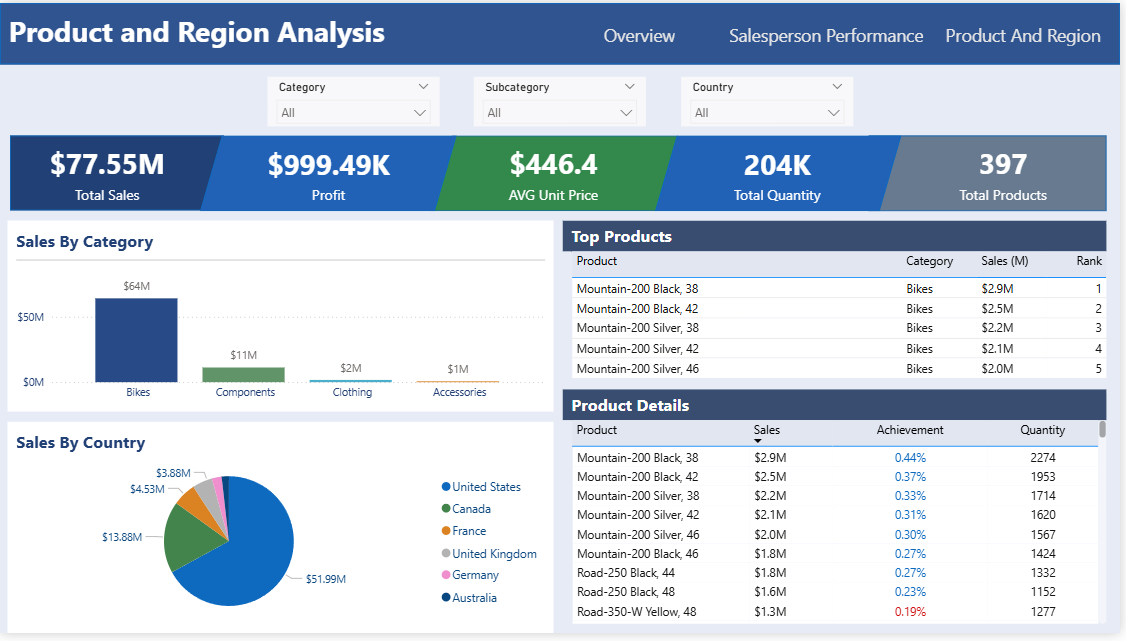

The dashboard page shown, as its layout file describes it:
{"tool":"powerbi","page":{"name":"Product And Region Analysis","canvas":[1280,720],"ordinal":2},"visuals":[{"type":"shape","box":[0,0,1280,70],"z":0},{"type":"textbox","box":[0,0,451.4,64.3],"z":1000},{"type":"actionButton","box":[647.1,5.7,167.1,60],"z":2000},{"type":"actionButton","box":[1074.3,5.7,190,60],"z":3000},{"type":"actionButton","box":[814.3,5.7,260,60],"z":4000},{"type":"shape","box":[11.4,151.4,244.3,85.7],"z":6000},{"type":"slicer","fields":{"Values":["Products.Category"]},"box":[305,85,196.7,56.7],"z":7000},{"type":"slicer","fields":{"Values":["Products.Subcategory"]},"box":[541.7,85,196.7,56.7],"z":8000},{"type":"slicer","fields":{"Values":["Regions.Country"]},"box":[778.3,85,196.7,56.7],"z":9000},{"type":"shape","box":[491.7,151.7,283.3,86.7],"z":10000},{"type":"shape","box":[993.3,151.7,271.7,86.7],"z":11000},{"type":"shape","box":[748.3,151.7,281.7,86.7],"z":12000},{"type":"shape","box":[228.3,151.7,293.3,86.7],"z":13000},{"type":"card","fields":{"Values":["Sales.Total Sales"]},"box":[28.3,151.7,188.3,86.7],"z":14000},{"type":"card","fields":{"Values":["Sales.AVG Unit Price"]},"box":[538.3,151.7,188.3,86.7],"z":15000},{"type":"card","fields":{"Values":["Sales.Profit"]},"box":[265.7,151.4,220,87.1],"z":16000},{"type":"card","fields":{"Values":["CountNonNull(Products.ProductKey)"]},"box":[1030,151.7,233.3,86.7],"z":17000},{"type":"card","fields":{"Values":["Sales.Total Quantity"]},"box":[794.3,151.4,188.6,87.1],"z":18000},{"type":"tableEx","title":"Top Products","fields":{"Values":["Products.Product","Products.Category","Products.Sales (M)","Products.Rank Category"]},"box":[642.9,248.6,621.4,192.9],"z":19000},{"type":"pieChart","title":"Sales By Country","fields":{"Category":["Regions.Country"],"Y":["Sales.Total Sales"]},"box":[8.6,478.6,624.3,241.4],"z":20000},{"type":"tableEx","title":"Product Details","fields":{"Values":["Products.Product","Products.Sales (M)","Sales.Target Achievement %","Sum(Sales.Quantity)"]},"box":[643.3,441.7,621.7,278.3],"z":21000},{"type":"columnChart","title":"Sales By Category","fields":{"Y":["Sales.Total Sales"],"Category":["Products.Category"]},"box":[8.6,248.6,624.3,218.6],"z":22000}]}

Visuals, with their boxes in screenshot pixels (x1, y1, x2, y2), scaled from the page's 1280x720 canvas onto the 1126x641 screenshot:
shape: (x1=0, y1=0, x2=1125, y2=62)
textbox: (x1=0, y1=0, x2=397, y2=57)
actionButton: (x1=569, y1=5, x2=716, y2=58)
actionButton: (x1=945, y1=5, x2=1112, y2=58)
actionButton: (x1=716, y1=5, x2=945, y2=58)
shape: (x1=10, y1=135, x2=225, y2=211)
slicer - Products.Category: (x1=268, y1=76, x2=441, y2=126)
slicer - Products.Subcategory: (x1=477, y1=76, x2=650, y2=126)
slicer - Regions.Country: (x1=685, y1=76, x2=858, y2=126)
shape: (x1=433, y1=135, x2=682, y2=212)
shape: (x1=874, y1=135, x2=1113, y2=212)
shape: (x1=658, y1=135, x2=906, y2=212)
shape: (x1=201, y1=135, x2=459, y2=212)
card - Sales.Total Sales: (x1=25, y1=135, x2=191, y2=212)
card - Sales.AVG Unit Price: (x1=474, y1=135, x2=639, y2=212)
card - Sales.Profit: (x1=234, y1=135, x2=427, y2=212)
card - CountNonNull(Products.ProductKey): (x1=906, y1=135, x2=1111, y2=212)
card - Sales.Total Quantity: (x1=699, y1=135, x2=865, y2=212)
"Top Products" tableEx: (x1=566, y1=221, x2=1112, y2=393)
"Sales By Country" pieChart: (x1=8, y1=426, x2=557, y2=640)
"Product Details" tableEx: (x1=566, y1=393, x2=1113, y2=640)
"Sales By Category" columnChart: (x1=8, y1=221, x2=557, y2=416)
